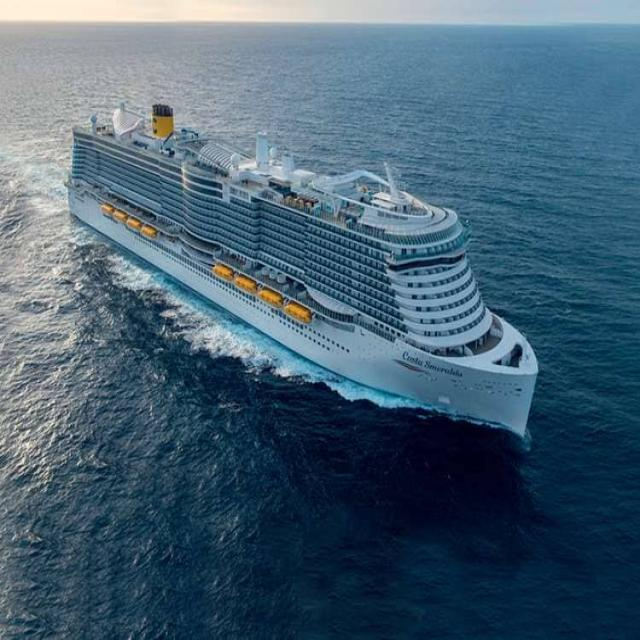passenger ship: (65, 96, 538, 446)
